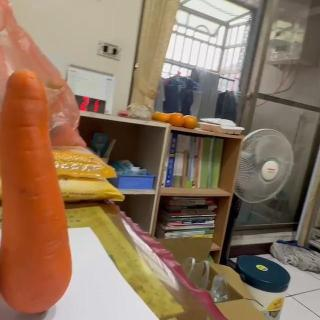carrot: (0, 68, 72, 315)
